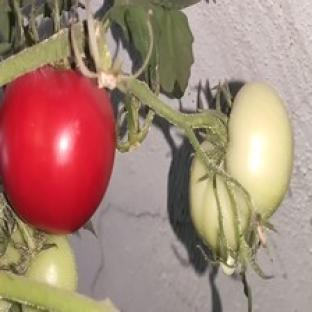Tomato: (190, 83, 293, 272), (0, 67, 115, 233), (190, 156, 250, 274), (26, 236, 77, 291)
